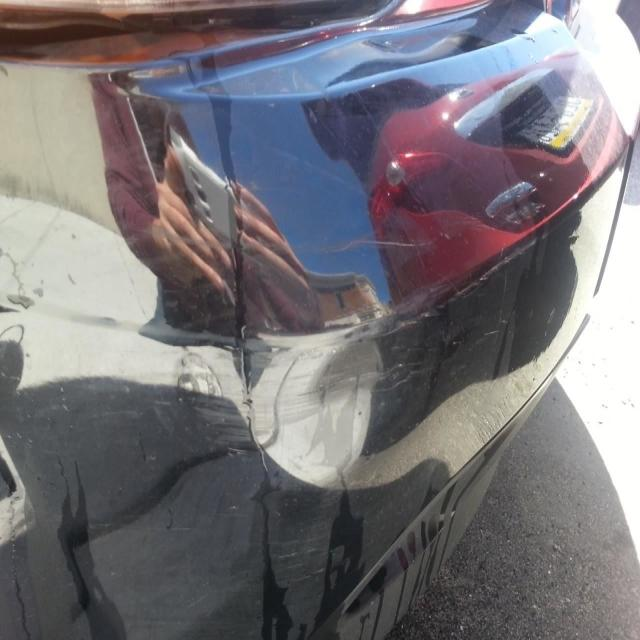scratch: (151, 231, 552, 478), (151, 240, 511, 478), (328, 237, 435, 256)
